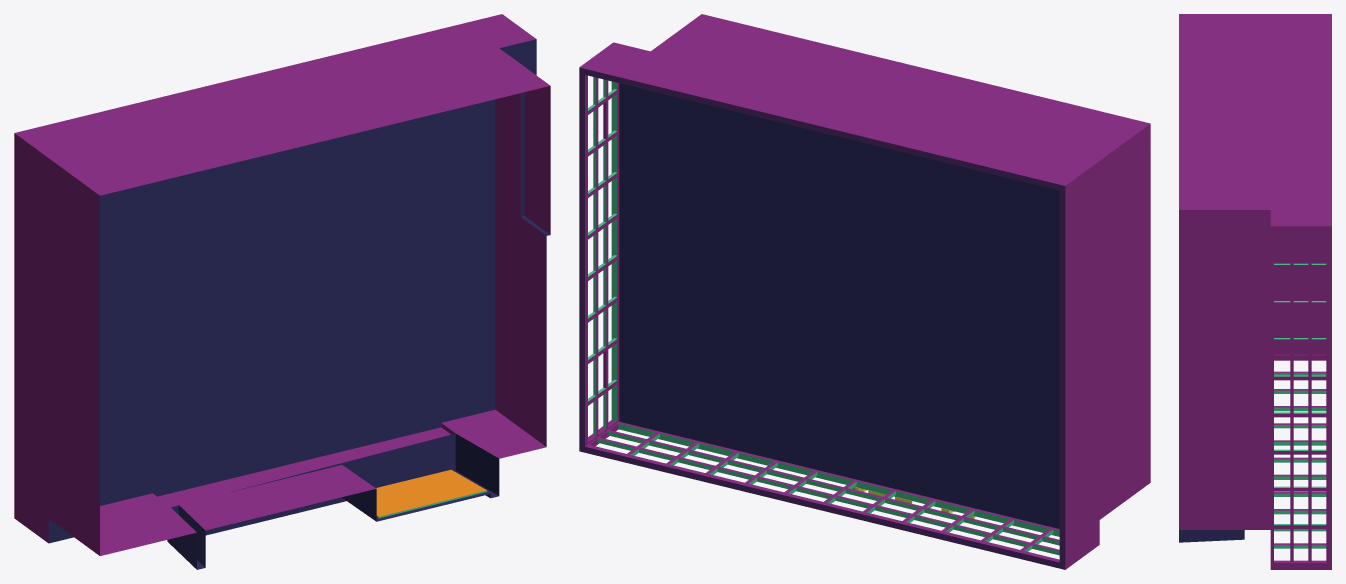
The model's file is Sezam Tier 2.fbx.
3 renders of one model, left to right at view 1: azimuth 30°, elevation 25°; view 2: azimuth 150°, elevation 25°; view 3: azimuth 270°, elevation 25°, orthographic. The views are drawn at different scales.
Parts seen in each view (by area): view 1: Sezam; view 2: Sezam; view 3: Sezam.
Part boxes in pixels (bbox=[...]): Sezam: bbox=[14, 14, 550, 569]; Sezam: bbox=[579, 14, 1150, 569]; Sezam: bbox=[1179, 14, 1331, 569].
Bounding box in the file's own units: 3.03 × 2.36 × 0.9213.
